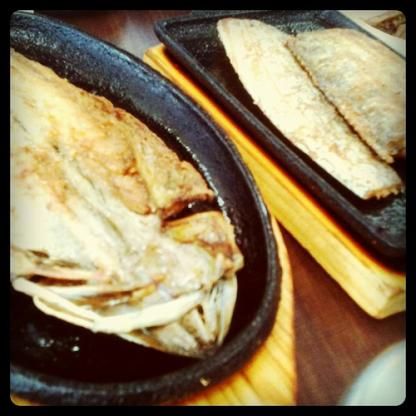Peixe: (0, 0, 236, 398)
